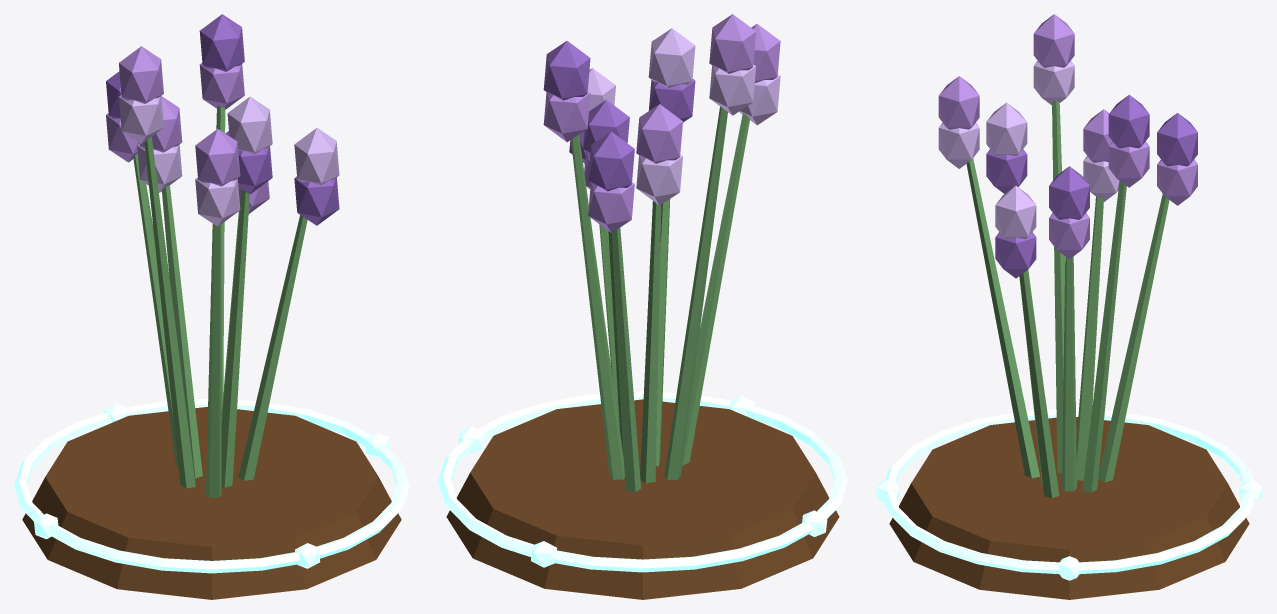
File: growing.glb
3 renders of one model, left to right at view 1: azimuth 30°, elevation 25°; view 2: azimuth 150°, elevation 25°; view 3: azimuth 270°, elevation 25°, orthographic. The views are drawn at different scales.
Visible parts, largest first — view 1: Lavender_Soil, Chrono_Energy_Ring, Lavender_Stem_05, Lavender_Stem_03, Lavender_Stem_08, Lavender_Stem_06, Lavender_Stem_02, Lavender_Stem_07, Lavender_Bloom_05_1, Lavender_Bloom_04_1, Lavender_Bloom_08_1, Lavender_Bloom_06_1 (+11 smaller); view 2: Lavender_Soil, Chrono_Energy_Ring, Lavender_Stem_05, Lavender_Stem_04, Lavender_Stem_08, Lavender_Stem_02, Lavender_Stem_07, Lavender_Bloom_05_1, Lavender_Bloom_02_1, Lavender_Bloom_03_1, Lavender_Bloom_07_1, Lavender_Bloom_04_1 (+12 smaller); view 3: Lavender_Soil, Chrono_Energy_Ring, Lavender_Stem_08, Lavender_Stem_04, Lavender_Stem_07, Lavender_Stem_02, Lavender_Stem_01, Lavender_Stem_06, Lavender_Stem_05, Lavender_Bloom_06_1, Lavender_Bloom_05_1, Lavender_Bloom_03_1 (+13 smaller).
Boxes of the visible parts, <box> form: Lavender_Soil: <box>22,407,401,599</box>; Chrono_Energy_Ring: <box>14,399,409,573</box>; Lavender_Stem_05: <box>144,137,195,488</box>; Lavender_Stem_03: <box>221,189,249,487</box>; Lavender_Stem_08: <box>206,224,221,497</box>; Lavender_Stem_06: <box>238,215,307,480</box>; Lavender_Stem_02: <box>162,185,202,478</box>; Lavender_Stem_07: <box>133,153,178,465</box>; Lavender_Bloom_05_1: <box>119,46,163,103</box>; Lavender_Bloom_04_1: <box>199,14,244,71</box>; Lavender_Bloom_08_1: <box>195,129,240,186</box>; Lavender_Bloom_06_1: <box>294,128,339,185</box>; Lavender_Soil: <box>446,399,839,599</box>; Chrono_Energy_Ring: <box>438,391,847,572</box>; Lavender_Stem_05: <box>664,106,727,479</box>; Lavender_Stem_04: <box>571,135,624,479</box>; Lavender_Stem_08: <box>682,113,749,465</box>; Lavender_Stem_02: <box>640,201,661,483</box>; Lavender_Stem_07: <box>612,228,641,492</box>; Lavender_Bloom_05_1: <box>709,14,755,73</box>; Lavender_Bloom_02_1: <box>636,104,682,163</box>; Lavender_Bloom_03_1: <box>648,28,695,87</box>; Lavender_Bloom_07_1: <box>588,131,634,191</box>; Lavender_Bloom_04_1: <box>543,41,590,100</box>; Lavender_Soil: <box>889,417,1249,599</box>; Chrono_Energy_Ring: <box>883,409,1255,573</box>; Lavender_Stem_08: <box>966,158,1040,478</box>; Lavender_Stem_04: <box>1082,181,1126,492</box>; Lavender_Stem_07: <box>1098,194,1169,482</box>; Lavender_Stem_02: <box>1076,197,1103,480</box>; Lavender_Stem_01: <box>1062,256,1076,491</box>; Lavender_Stem_06: <box>1019,270,1059,497</box>; Lavender_Stem_05: <box>1052,101,1065,473</box>; Lavender_Bloom_06_1: <box>995,185,1036,239</box>; Lavender_Bloom_05_1: <box>1033,14,1074,67</box>; Lavender_Bloom_03_1: <box>986,102,1027,156</box>.
Bounding box in the file's own units: 1.2 × 1.62 × 1.2.
